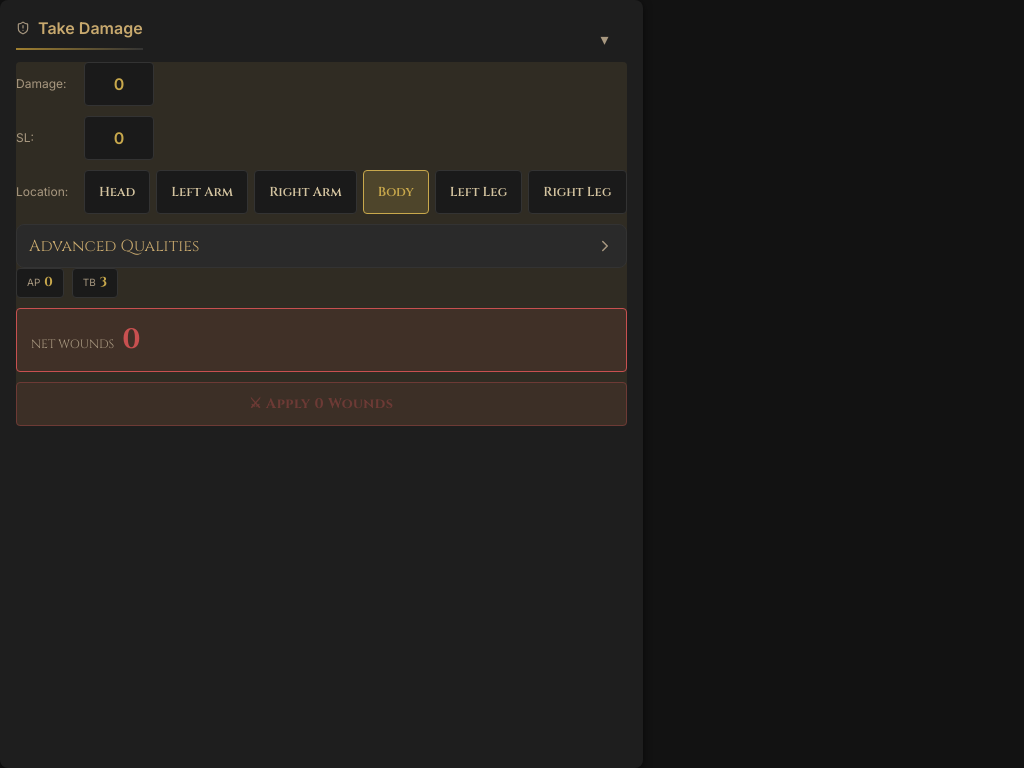
Scenario: Integration: TakeDamagePanel Critical Wound flow › Critical wound triggered with excess < TB → modifier is -20 › shows -20 modifier with SL contributing to damage
Replace the text in the number field named "Incoming damage" with "5" at (119, 84), box [84,62,154,106]
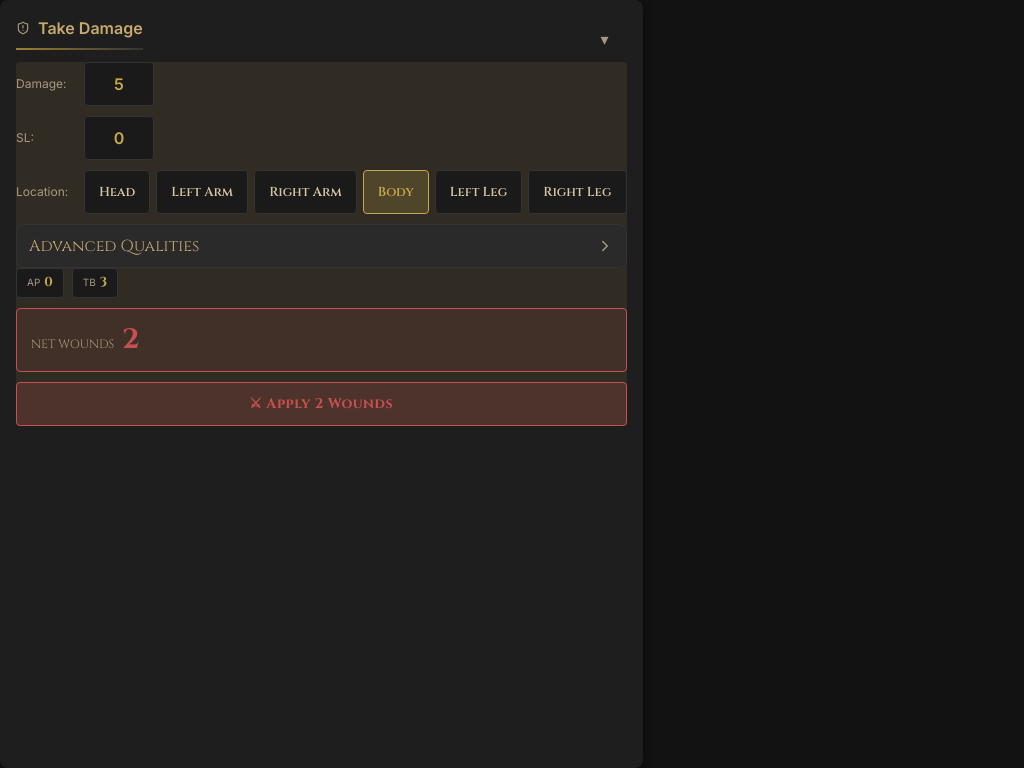
Replace the text in the number field named "Success Levels" with "7" at (119, 138), box [84,116,154,160]
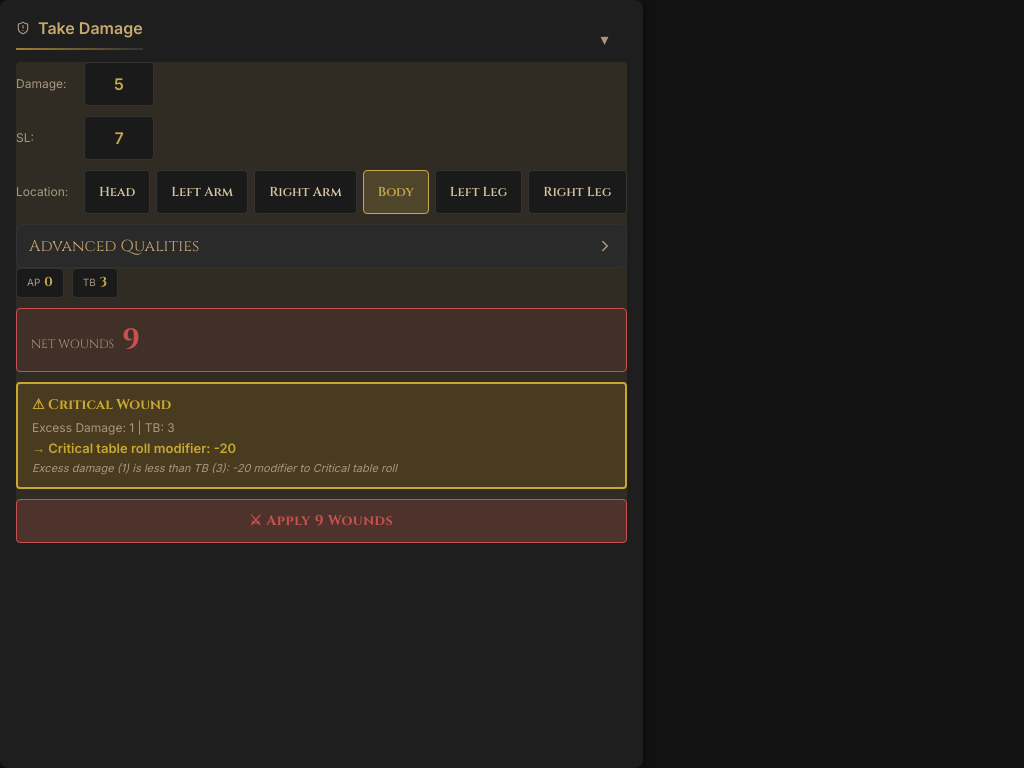
Check: the message with test id "critical-wound-notification" shows "Excess Damage: 1", box [16,382,626,488]
Check: the message with test id "critical-wound-notification" shows "TB: 3", box [16,382,626,488]
Check: the message with test id "critical-wound-notification" shows "Critical table roll modifier: -20", box [32,440,236,456]
